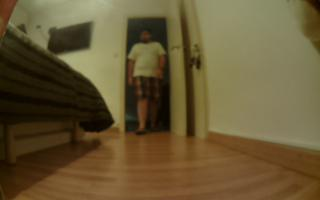person: (130, 30, 166, 134)
